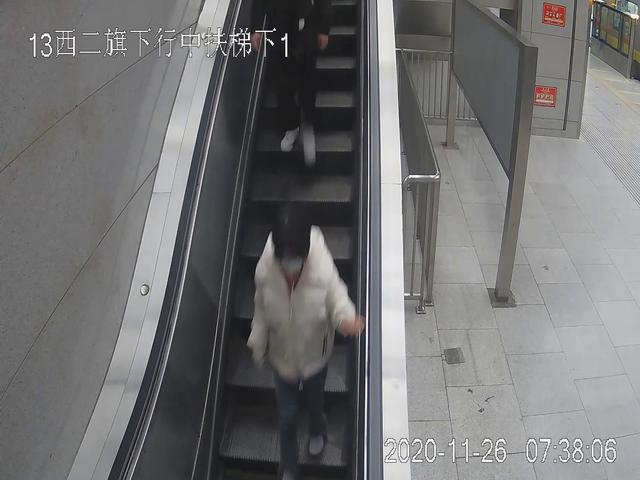person: (247, 204, 363, 480)
